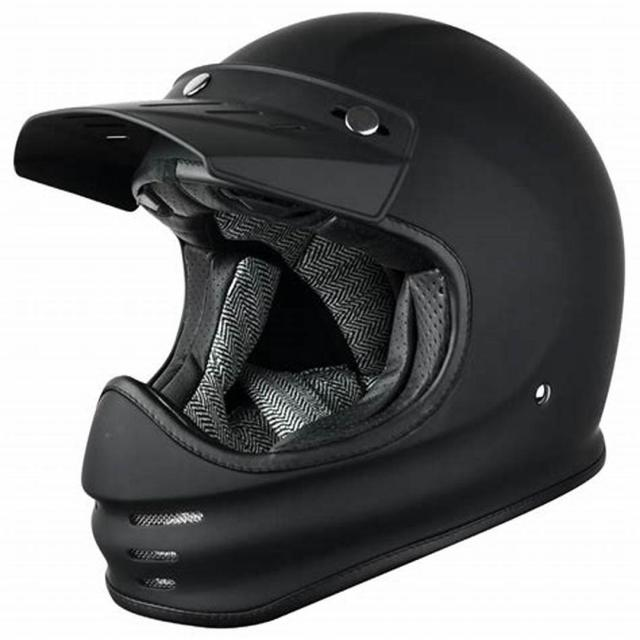illegal_helmet: (6, 7, 627, 635)
